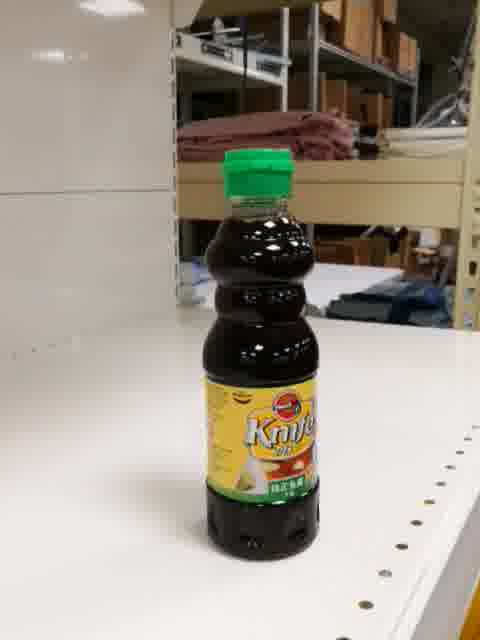cookingoil: (201, 144, 321, 564)
